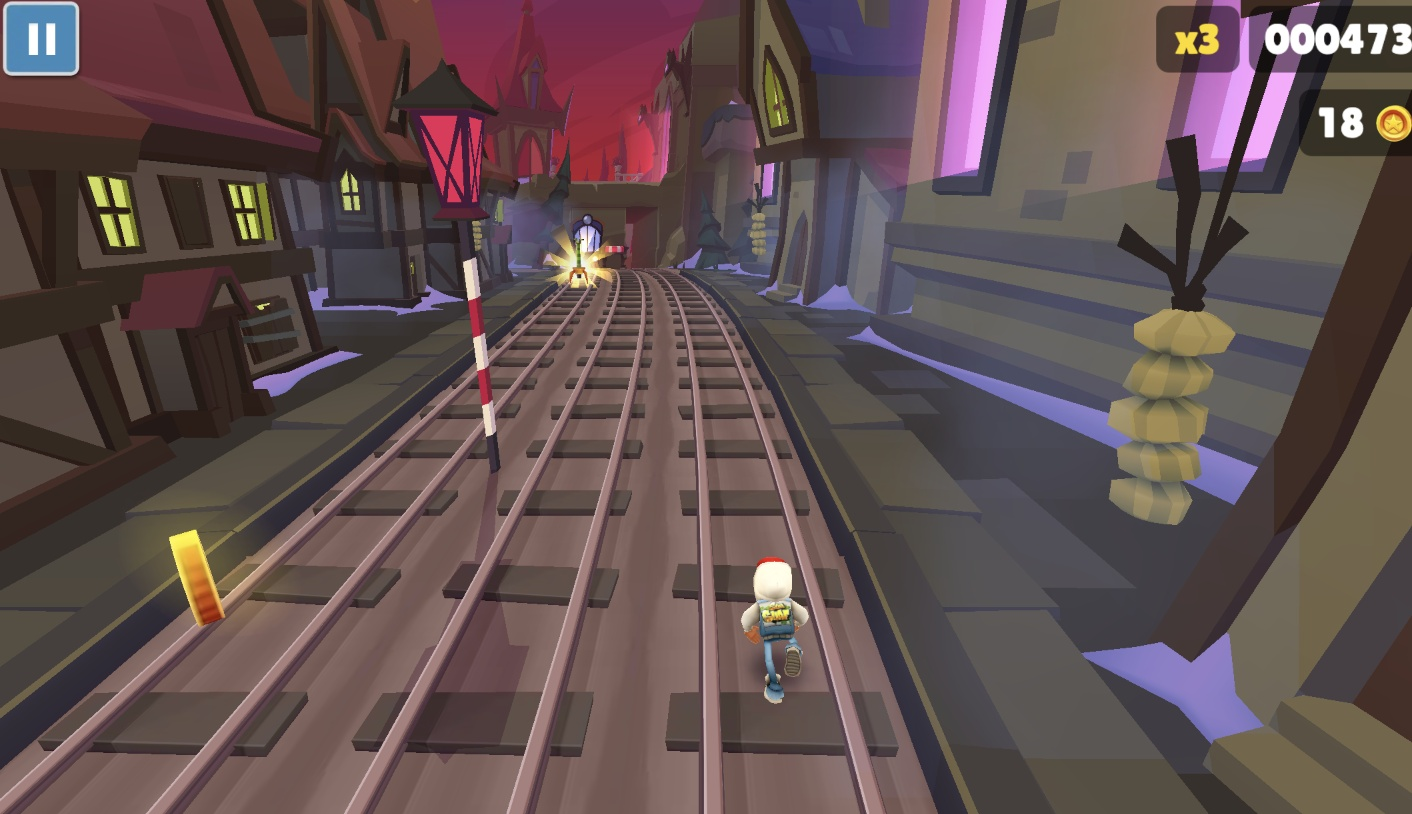ground_barrier: (600, 246, 629, 271)
train: (569, 213, 606, 274)
